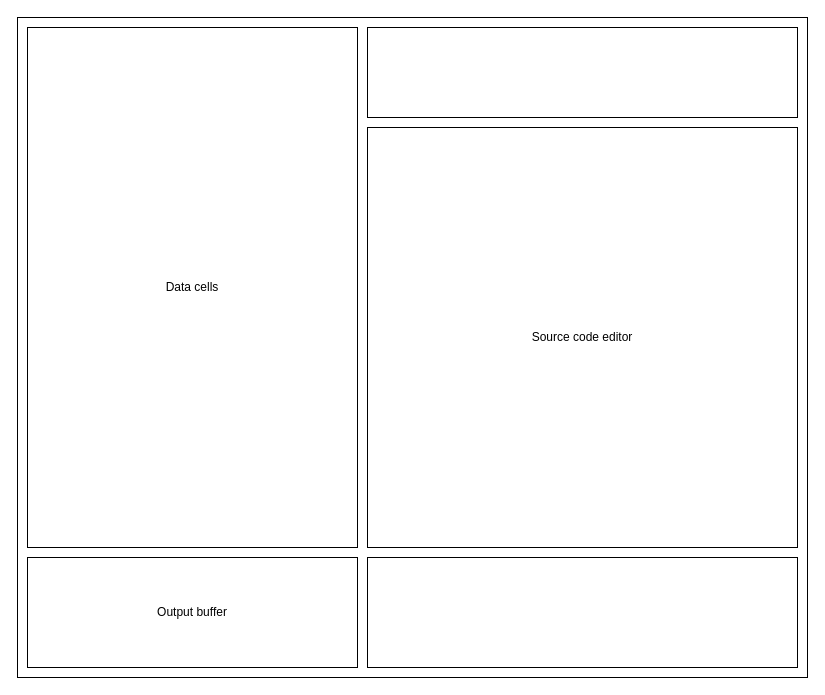
This 825x695 diagram has some shape labels left out. The box of each missing label's shape, as (x1, y1, x2, y2) in pixels:
Operation details: (366, 556, 798, 668)
Settings: (366, 26, 798, 118)
